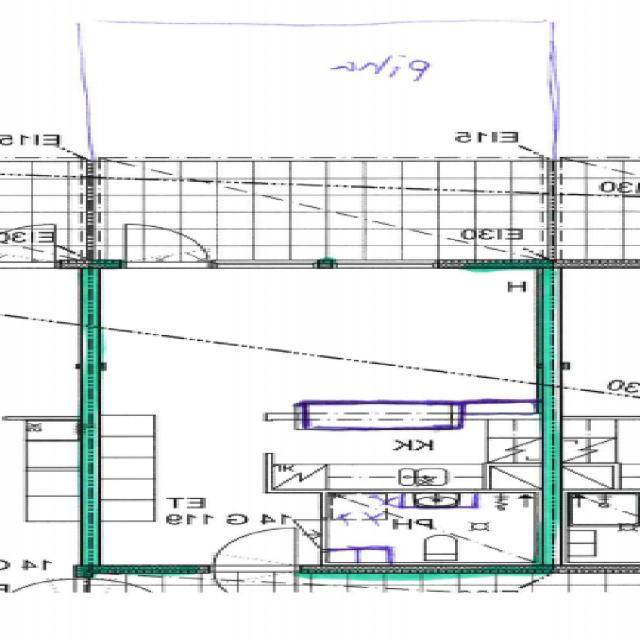door: (212, 565, 294, 610), (212, 527, 294, 572), (125, 225, 205, 269), (258, 520, 326, 548)
